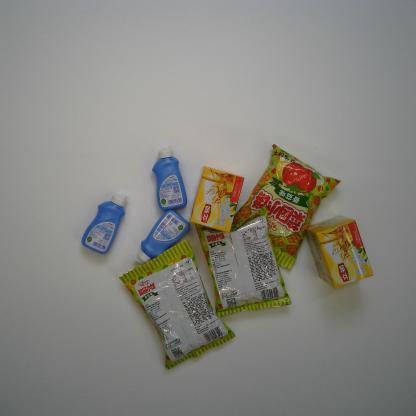Instant Drink: (305, 214, 375, 291), (188, 165, 245, 234)
Personal Hygiene: (134, 208, 190, 266), (80, 192, 130, 256), (151, 145, 188, 211)
Puffed Food: (118, 237, 236, 370), (230, 142, 343, 272), (194, 205, 292, 318)
